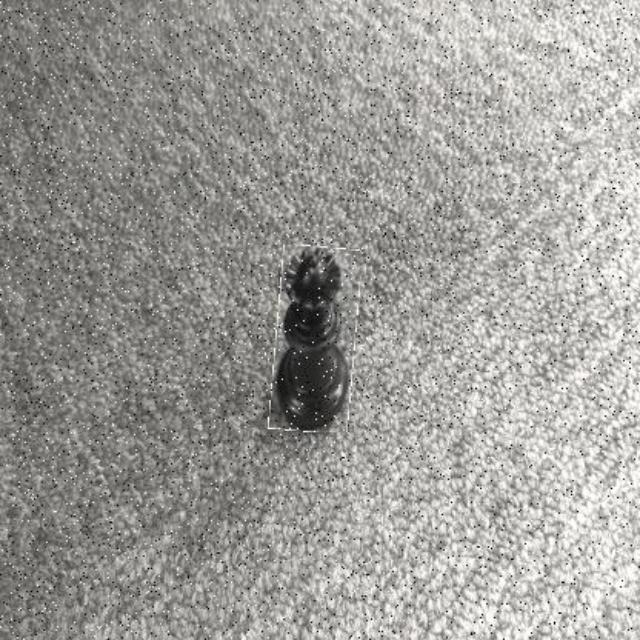black-queen: (272, 247, 358, 433)
